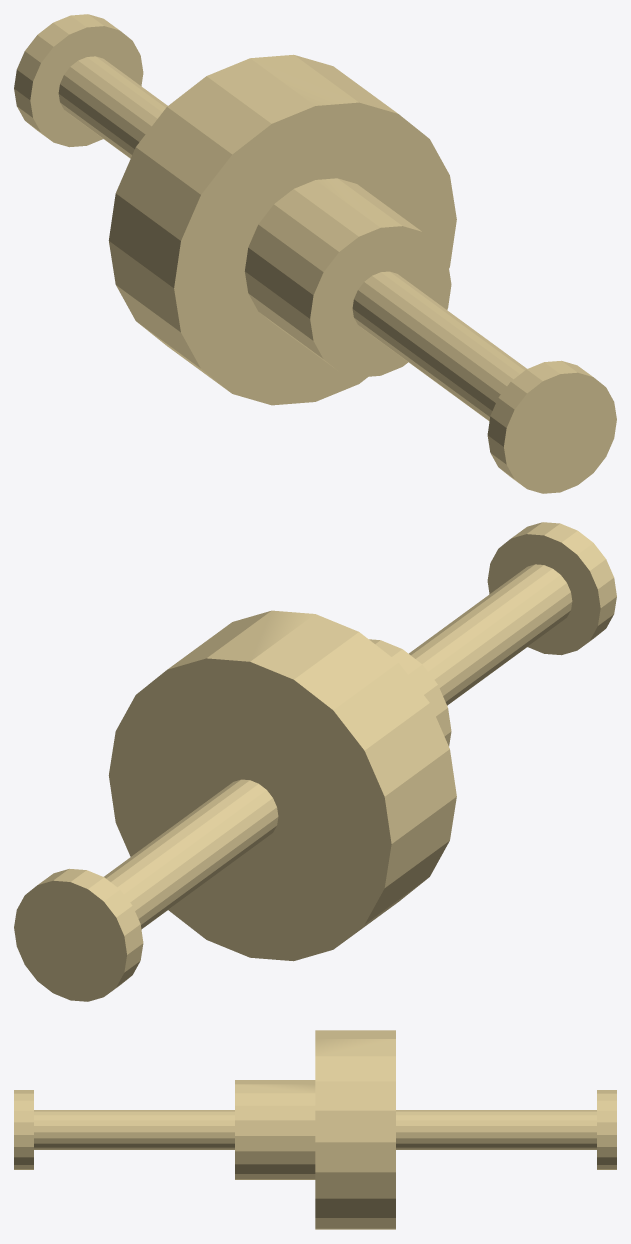
Rendered from reducer.gltf.
3 renders of one model, top to bottom at view 1: azimuth 30°, elevation 25°; view 2: azimuth 150°, elevation 25°; view 3: azimuth 270°, elevation 25°, orthographic. The views are drawn at different scales.
Parts seen in each view (by area): view 1: 887ba473-c4d8-4632-94a1-a43050d2665f_mesh; view 2: 887ba473-c4d8-4632-94a1-a43050d2665f_mesh; view 3: 887ba473-c4d8-4632-94a1-a43050d2665f_mesh.
Part boxes in pixels (left/top/right/bottom): 887ba473-c4d8-4632-94a1-a43050d2665f_mesh: left=14, top=14, right=616, bottom=493; 887ba473-c4d8-4632-94a1-a43050d2665f_mesh: left=14, top=522, right=616, bottom=1001; 887ba473-c4d8-4632-94a1-a43050d2665f_mesh: left=14, top=1030, right=616, bottom=1229.
Size of the model in its own units: 0.1 by 0.1 by 0.3.
